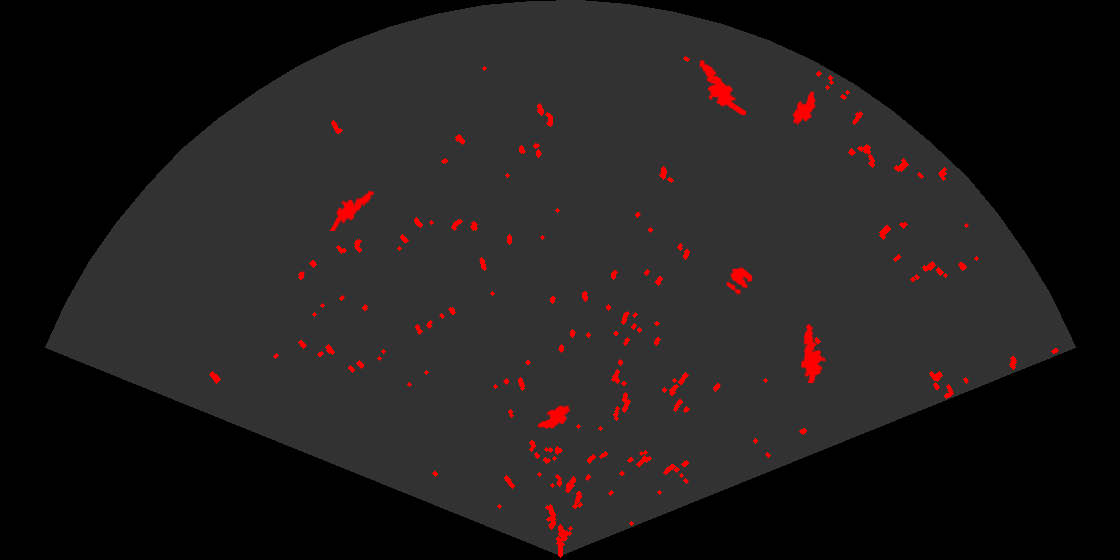AUV: (791, 89, 817, 126), (536, 404, 572, 430)
ball: (725, 266, 754, 296)
frogman: (697, 58, 746, 115), (329, 183, 377, 231), (799, 322, 828, 383)
